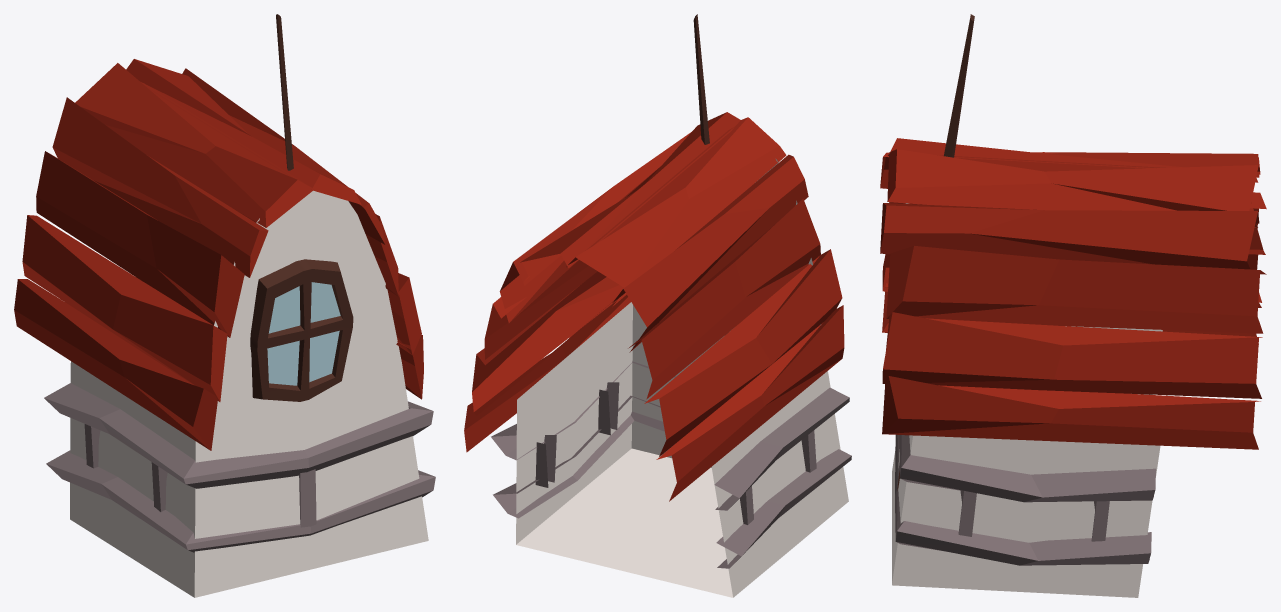
The model's file is SM_L_R_Home_Pop_Up_Curve_window.fbx.
3 renders of one model, left to right at view 1: azimuth 30°, elevation 25°; view 2: azimuth 150°, elevation 25°; view 3: azimuth 270°, elevation 25°, orthographic. The views are drawn at different scales.
Parts seen in each view (by area): view 1: SM_L_R_Home_Window_Popup_curve; view 2: SM_L_R_Home_Window_Popup_curve; view 3: SM_L_R_Home_Window_Popup_curve.
Boxes of the visible parts, x1,y1,x2,y2 form: SM_L_R_Home_Window_Popup_curve: (14,14,435,597); SM_L_R_Home_Window_Popup_curve: (464,14,851,597); SM_L_R_Home_Window_Popup_curve: (880,14,1266,597).
Bounding box in the file's own units: 273 × 520 × 344.
